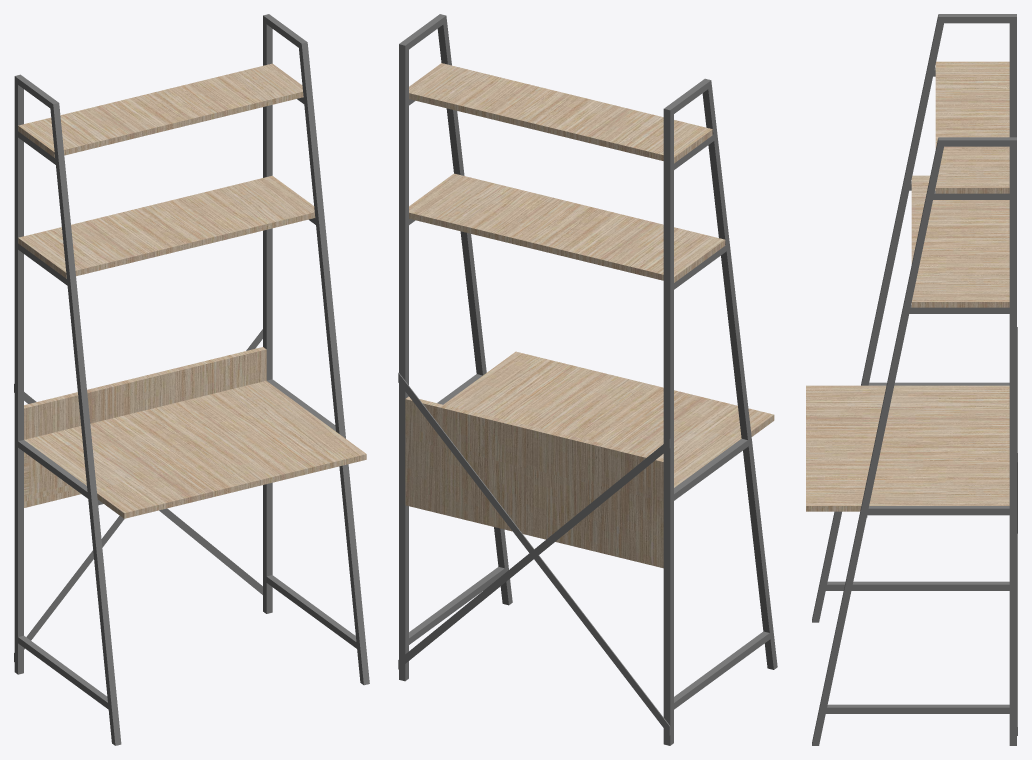
File: mesaDoDaru.fbx
The picture shows the model from 3 angles, left to right: view 1: azimuth 30°, elevation 25°; view 2: azimuth 150°, elevation 25°; view 3: azimuth 270°, elevation 25°; orthographic projection. The views are drawn at different scales.
Parts seen in each view (by area): view 1: Material2, Material2.001; view 2: Material2, Material2.001; view 3: Material2, Material2.001.
Part boxes in pixels (x1,y1,x2,y2): Material2: [18, 63, 366, 518]; Material2.001: [14, 14, 369, 745]; Material2: [405, 63, 774, 568]; Material2.001: [398, 14, 777, 745]; Material2: [806, 61, 1009, 511]; Material2.001: [812, 14, 1017, 745].
Bounding box in the file's own units: 3346 × 7492 × 2374.
